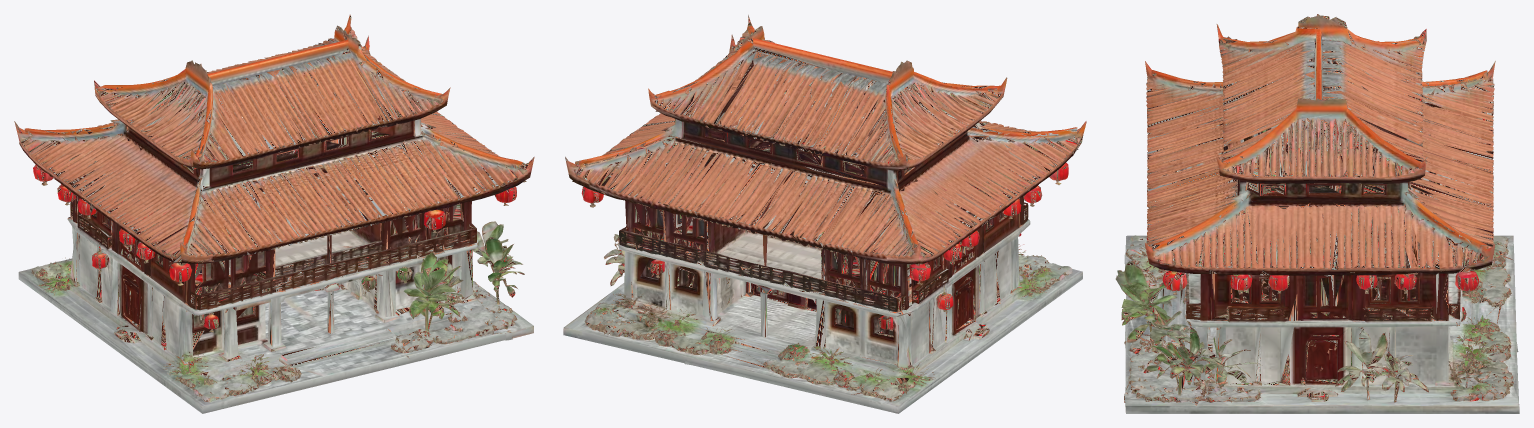
The model's file is bq_yamen.glb.
3 views of the same model, side by side, from view 1: azimuth 30°, elevation 25°; view 2: azimuth 150°, elevation 25°; view 3: azimuth 270°, elevation 25° (orthographic). The views are drawn at different scales.
Bounding box in the file's own units: 1.89 × 1.29 × 1.72.
Materials: 1 (1 with a texture image).
